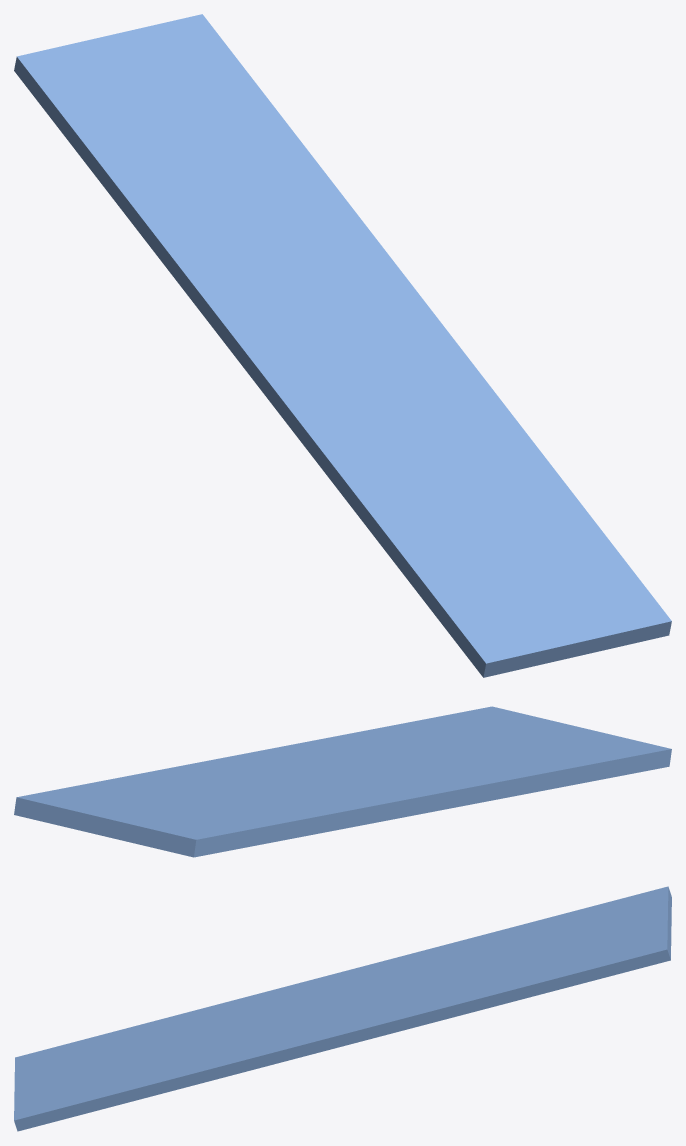
File: testrun2.fbx
The picture shows the model from 3 angles, top to bottom: view 1: azimuth 30°, elevation 25°; view 2: azimuth 150°, elevation 25°; view 3: azimuth 270°, elevation 25°; orthographic projection. The views are drawn at different scales.
Parts seen in each view (by area): view 1: Cube.003; view 2: Cube.003; view 3: Cube.003.
Boxes of the visible parts, x1,y1,x2,y2 form: Cube.003: (14, 14, 671, 677); Cube.003: (14, 706, 671, 857); Cube.003: (14, 886, 671, 1131).
Size of the model in its own units: 4718 by 6349 by 20290.
